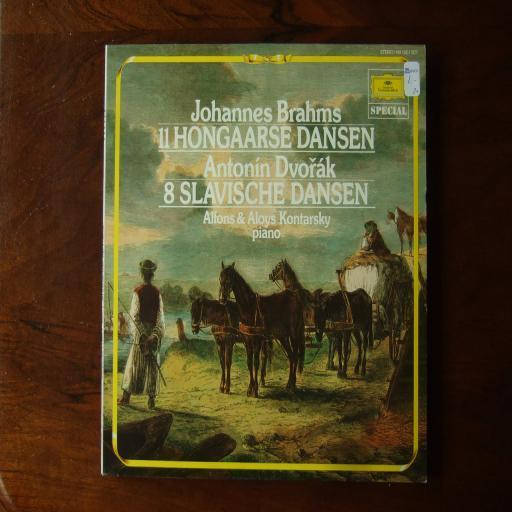horse: (217, 259, 307, 396), (190, 292, 270, 396), (267, 257, 332, 369), (308, 291, 376, 383), (393, 206, 437, 258), (384, 208, 423, 256)
